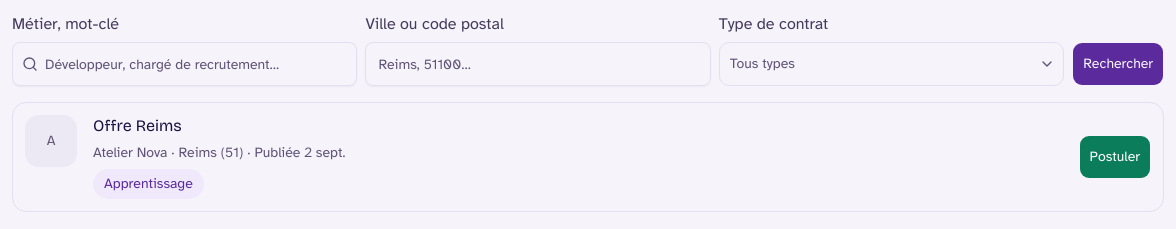
Test: OfferSearch › shows a clear empty-state message when no offer matches the search
The image size is (1176, 229).
Type "introuvable-xyz" into the field labelled "Métier, mot-clé". click: (185, 64)
box: [12, 42, 357, 86]
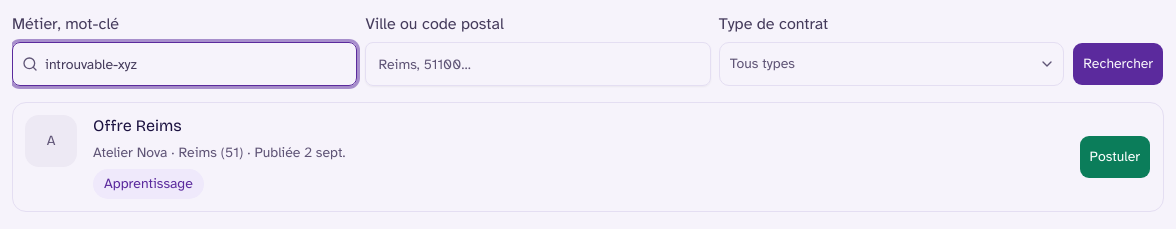
Click the button "Rechercher". click: (1118, 64)
box: [1072, 42, 1164, 86]
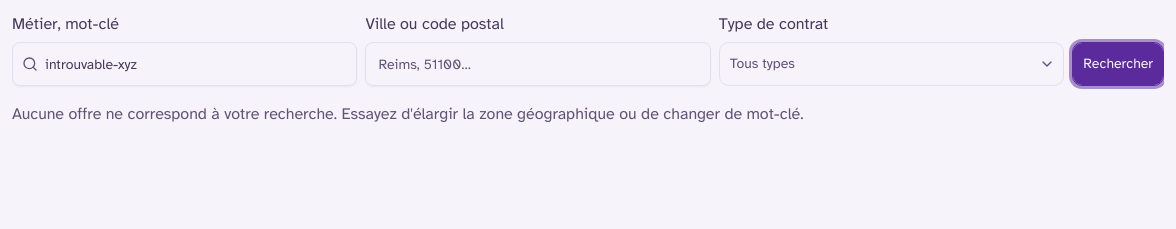
Result: the text "Offre Reims" is gone
Result: the text "Aucune offre ne correspond" is shown at [12, 104, 804, 124]
